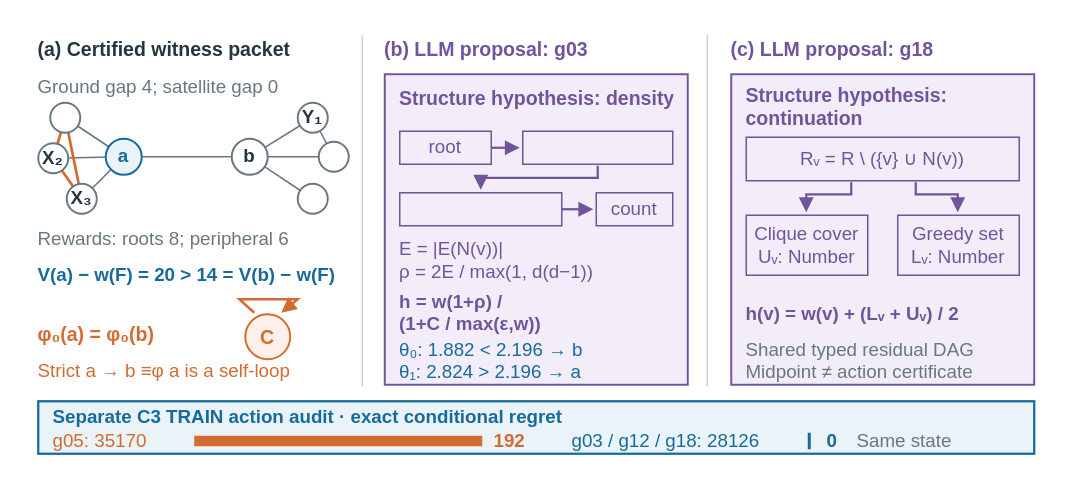
This 1071x489 diagram has some shape labels left out. The centre of each missing label's shape, as x and y in pixels:
"induced_edges" belongs at [480,208].
"neighbors" belongs at [597,147].
"X₁" belongs at [65,117].
"Y₂" belongs at [333,156].
"Y₃" belongs at [312,198].
